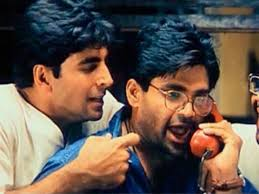Bad: (1, 1, 244, 193)
